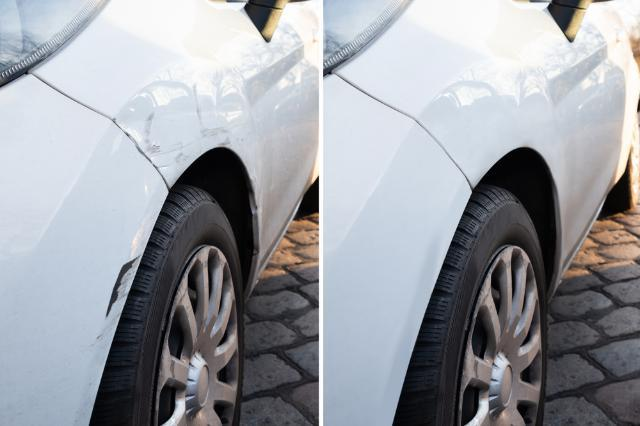scratch: (119, 84, 238, 168), (104, 251, 144, 316)
